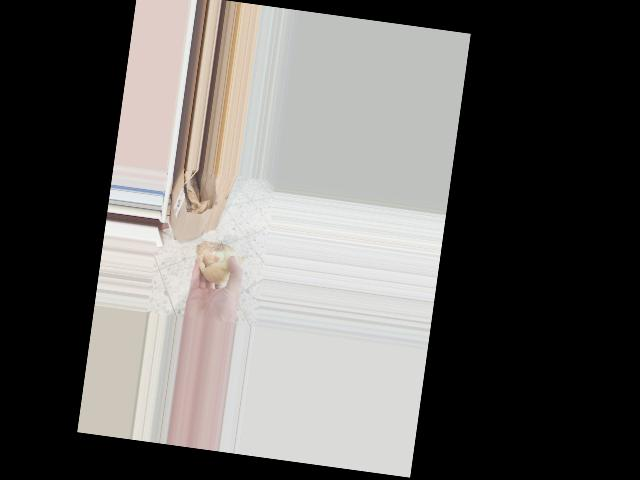onion: (190, 234, 246, 290)
